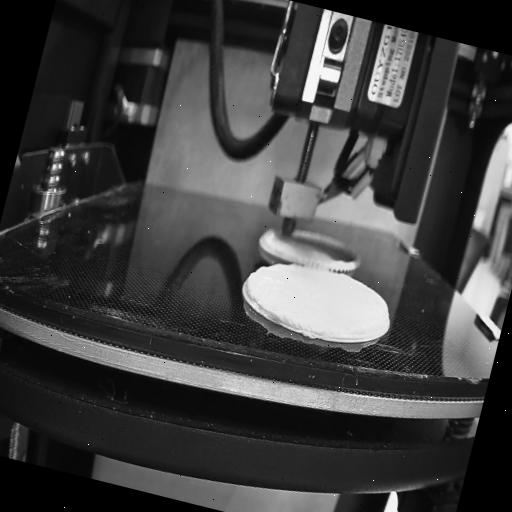over_extrusion: (242, 260, 268, 300)
